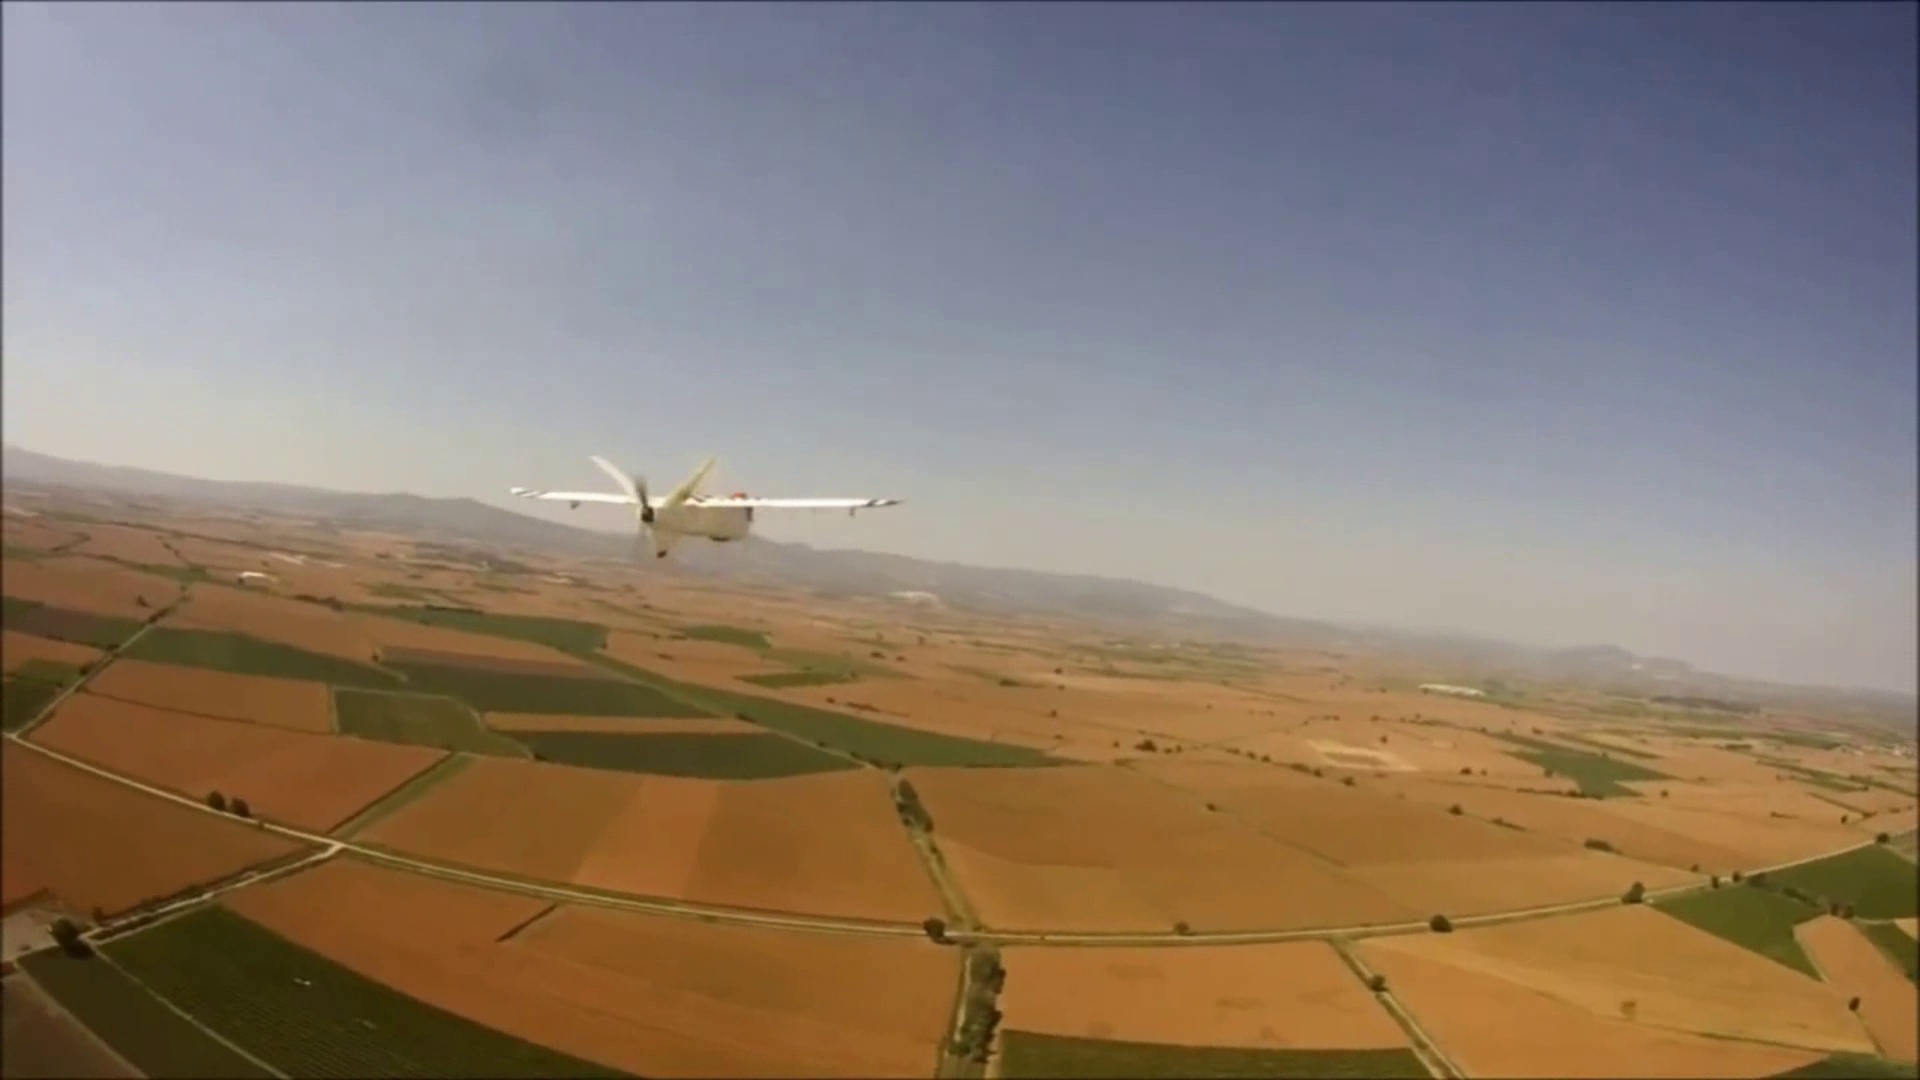airplane: (7, 440, 1886, 1069), (506, 450, 902, 560)
